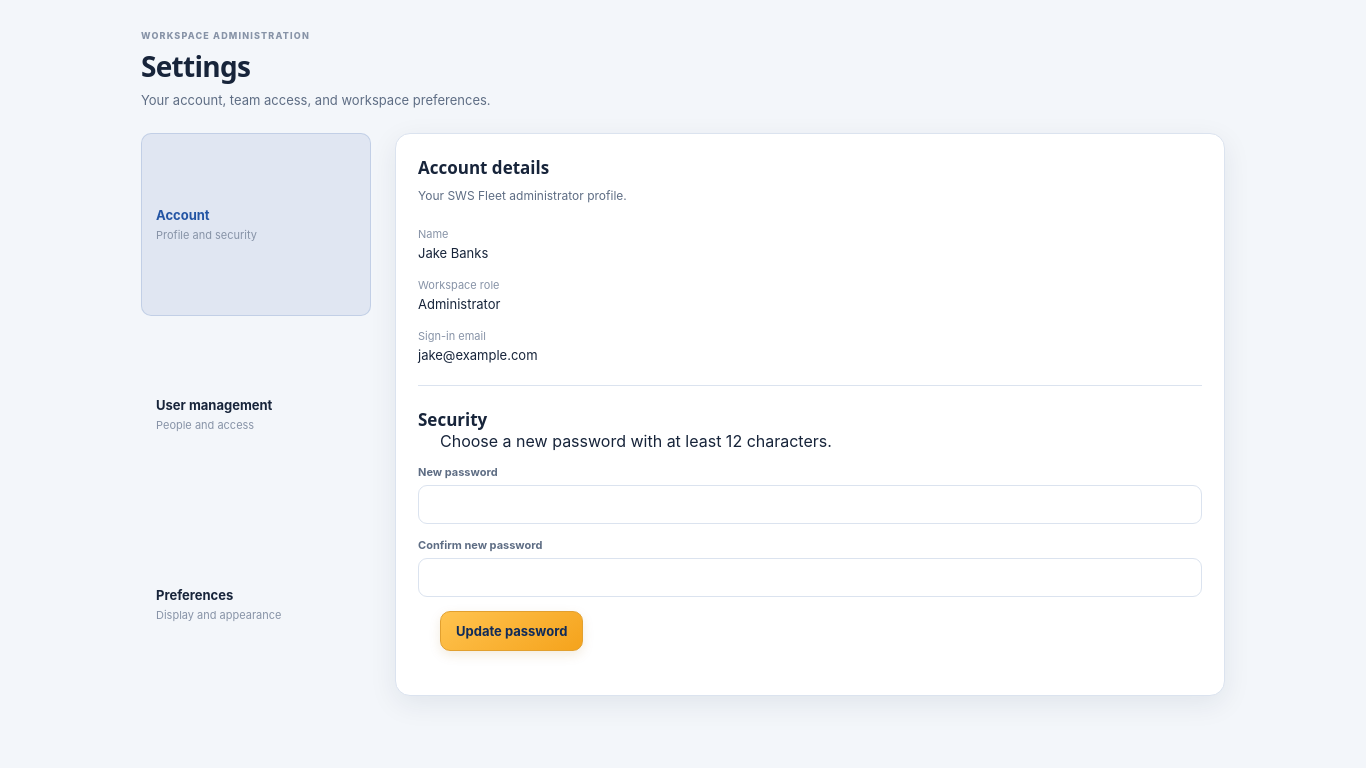
rejects mismatched passwords and surfaces remote update errors
The width and height of the screenshot is (1366, 768).
Expected: the text "jake@example.com" is shown, left=418, top=347, right=538, bottom=363
In the password field labelled "New password": (810, 505) left=418, top=485, right=1202, bottom=524, type "long-new-password"
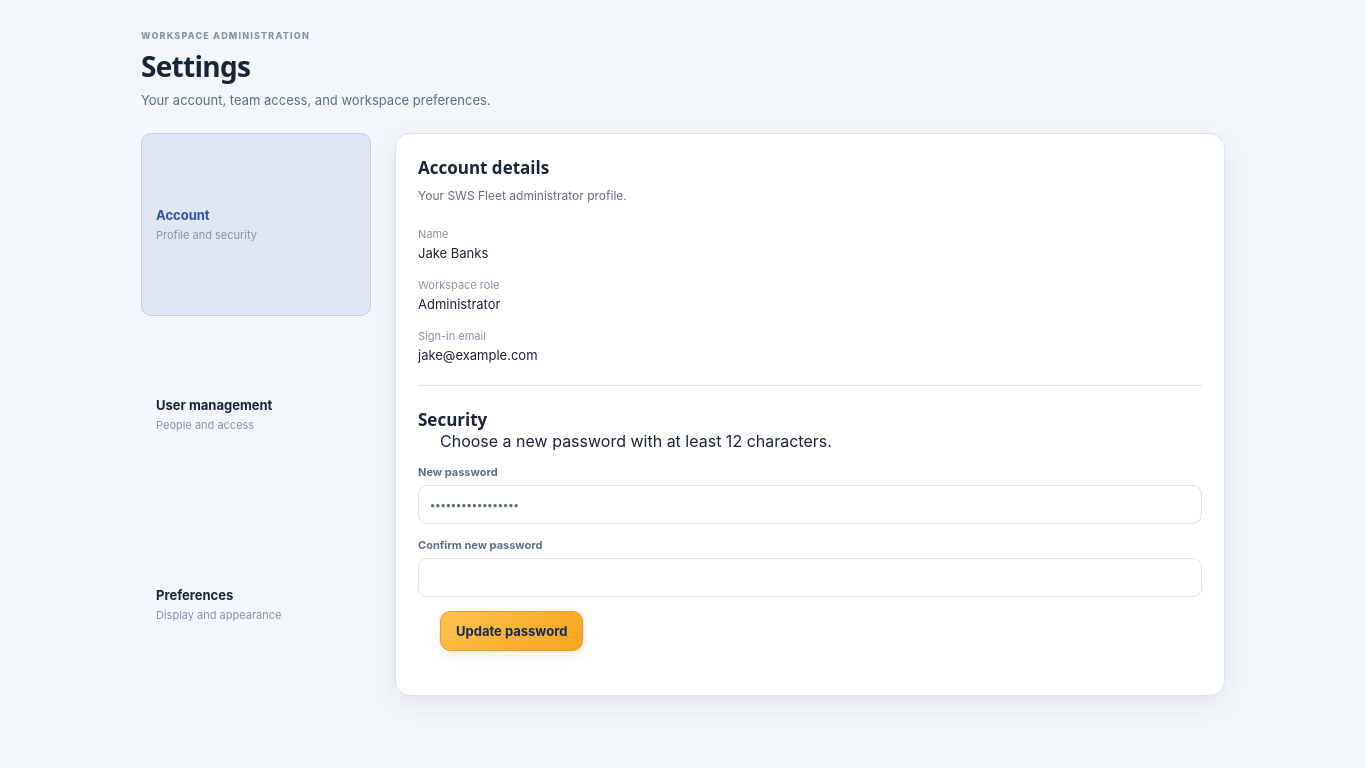
In the password field labelled "Confirm new password": (810, 578) left=418, top=558, right=1202, bottom=597, type "other-password"
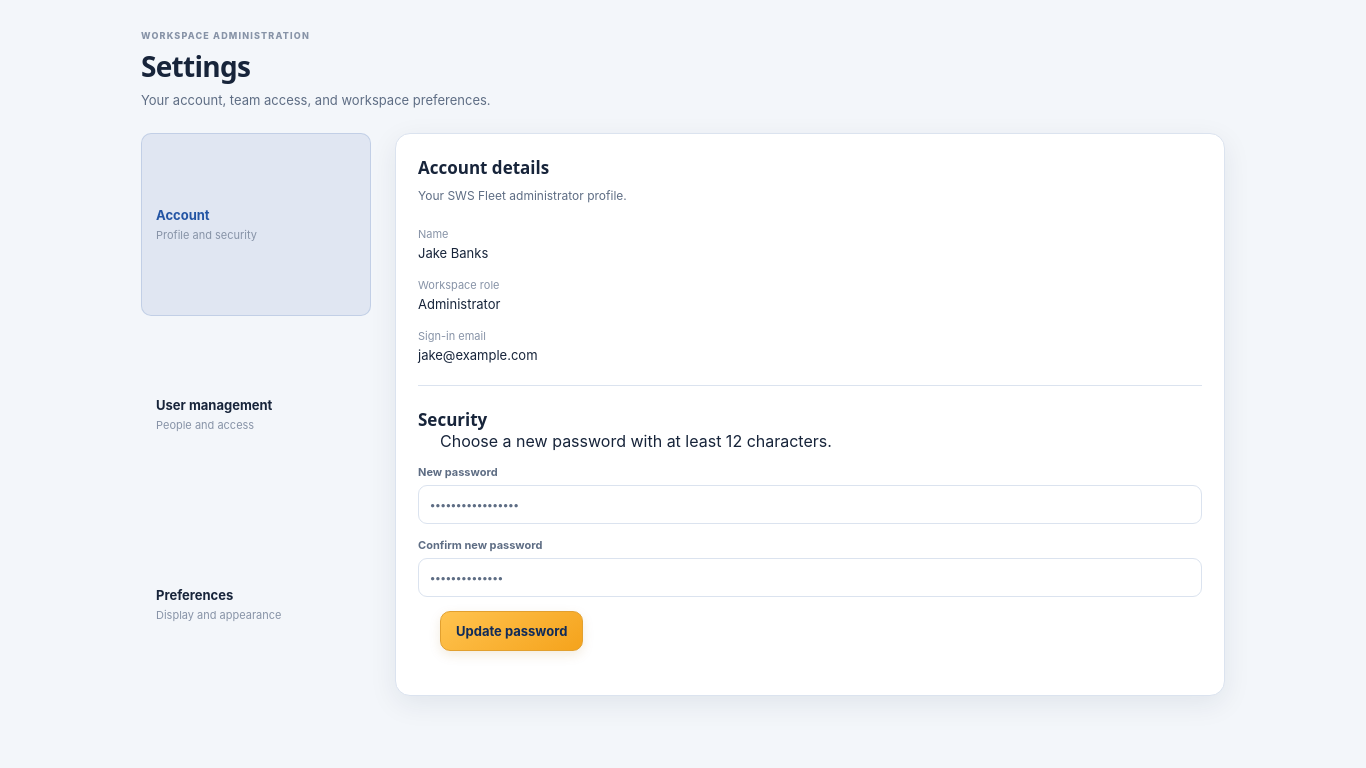
Click the button "Update password": (512, 631) left=440, top=611, right=583, bottom=651
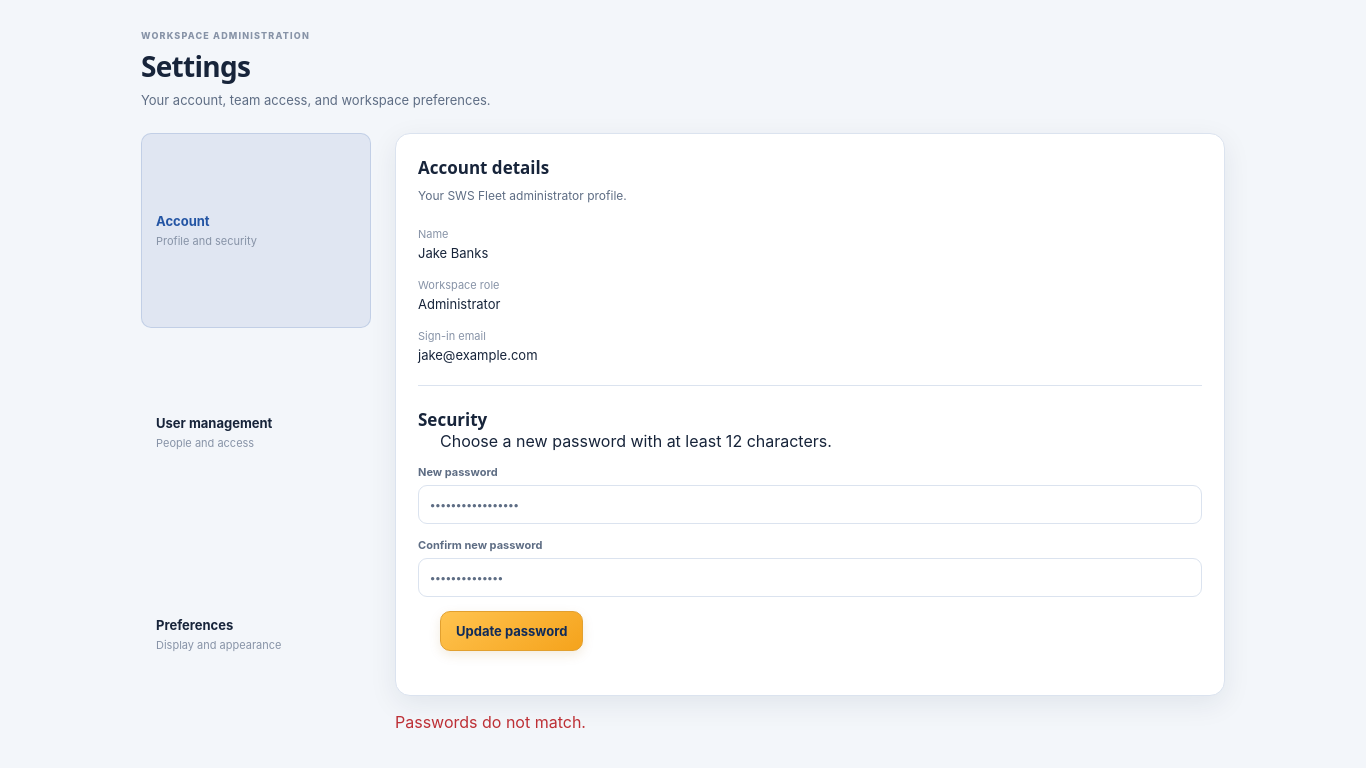
Now the message shows "Passwords do not match", box left=395, top=712, right=586, bottom=732
In the password field labelled "Confirm new password": (810, 578) left=418, top=558, right=1202, bottom=597, type "long-new-password"
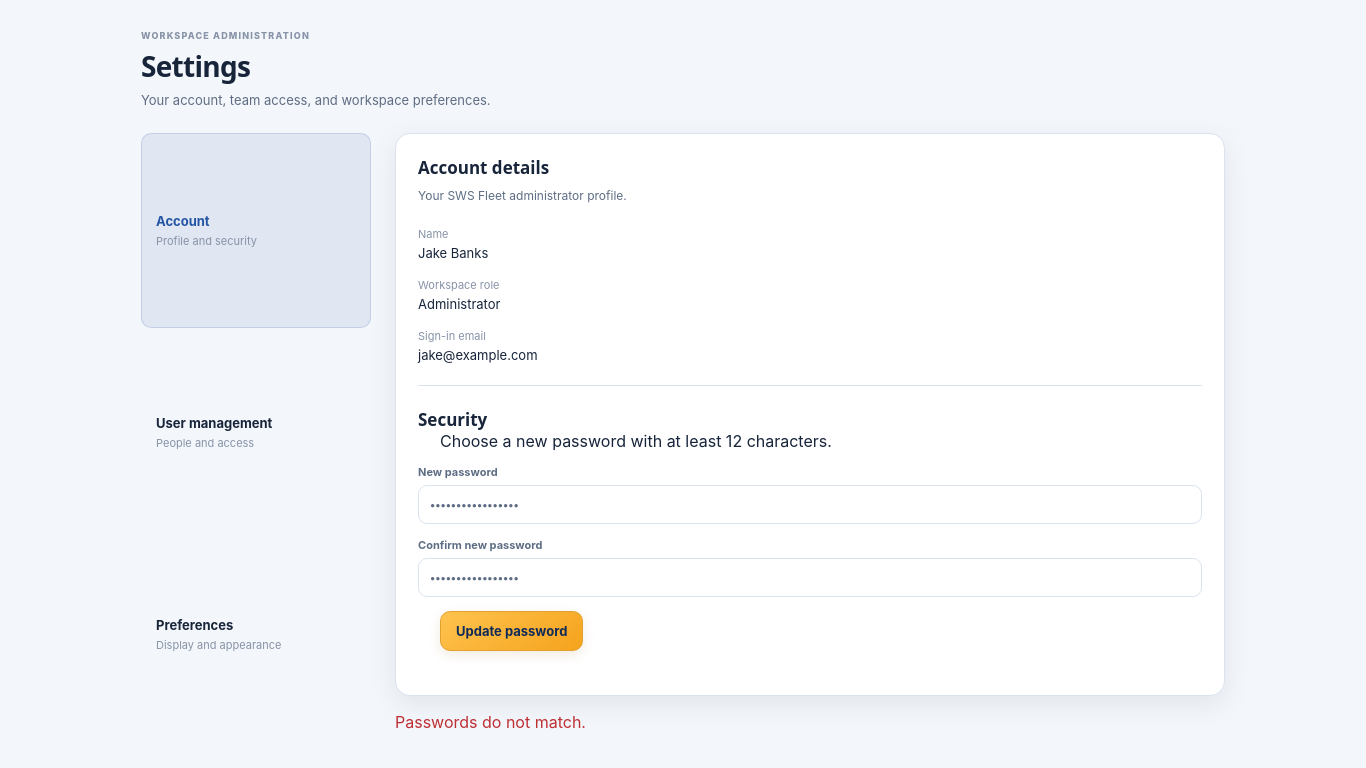
Click the button "Update password": (512, 631) left=440, top=611, right=583, bottom=651
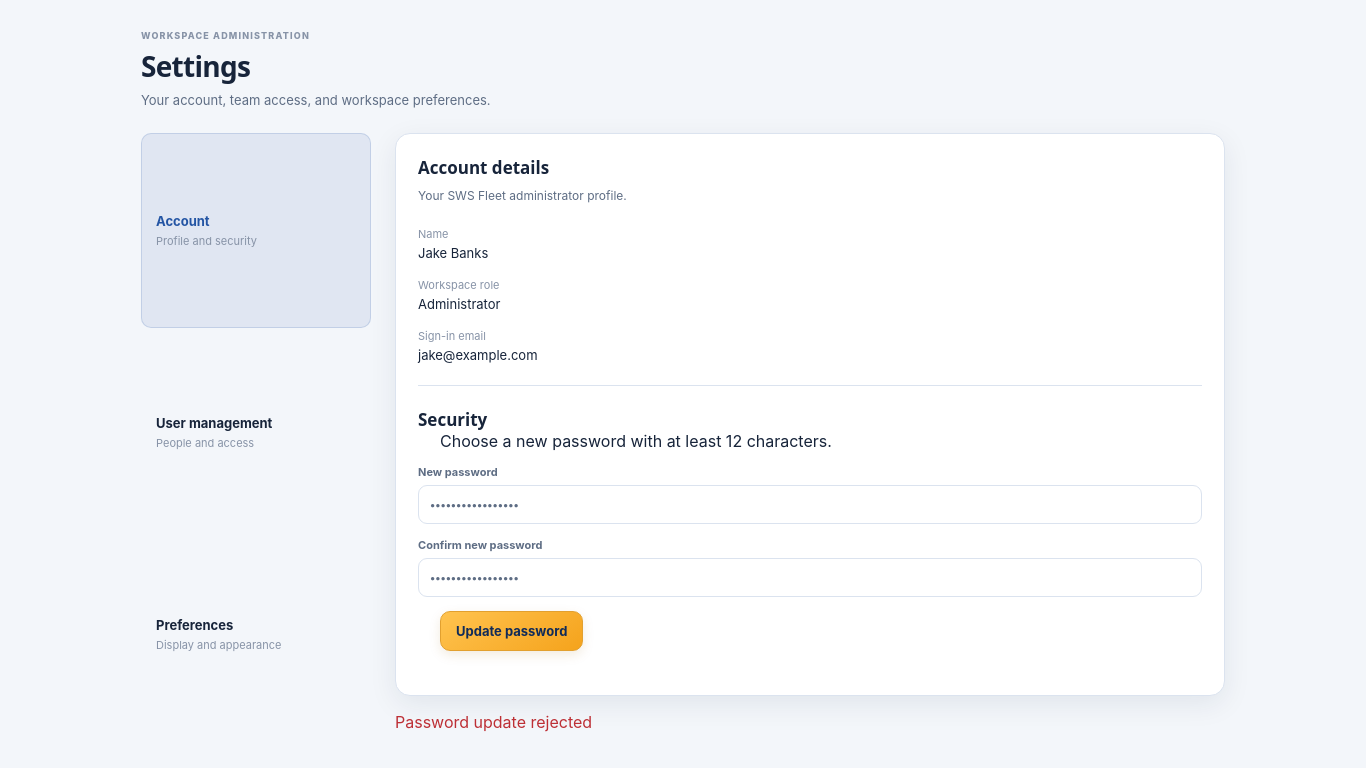
Now the message reads "Password update rejected", box left=395, top=712, right=592, bottom=732
